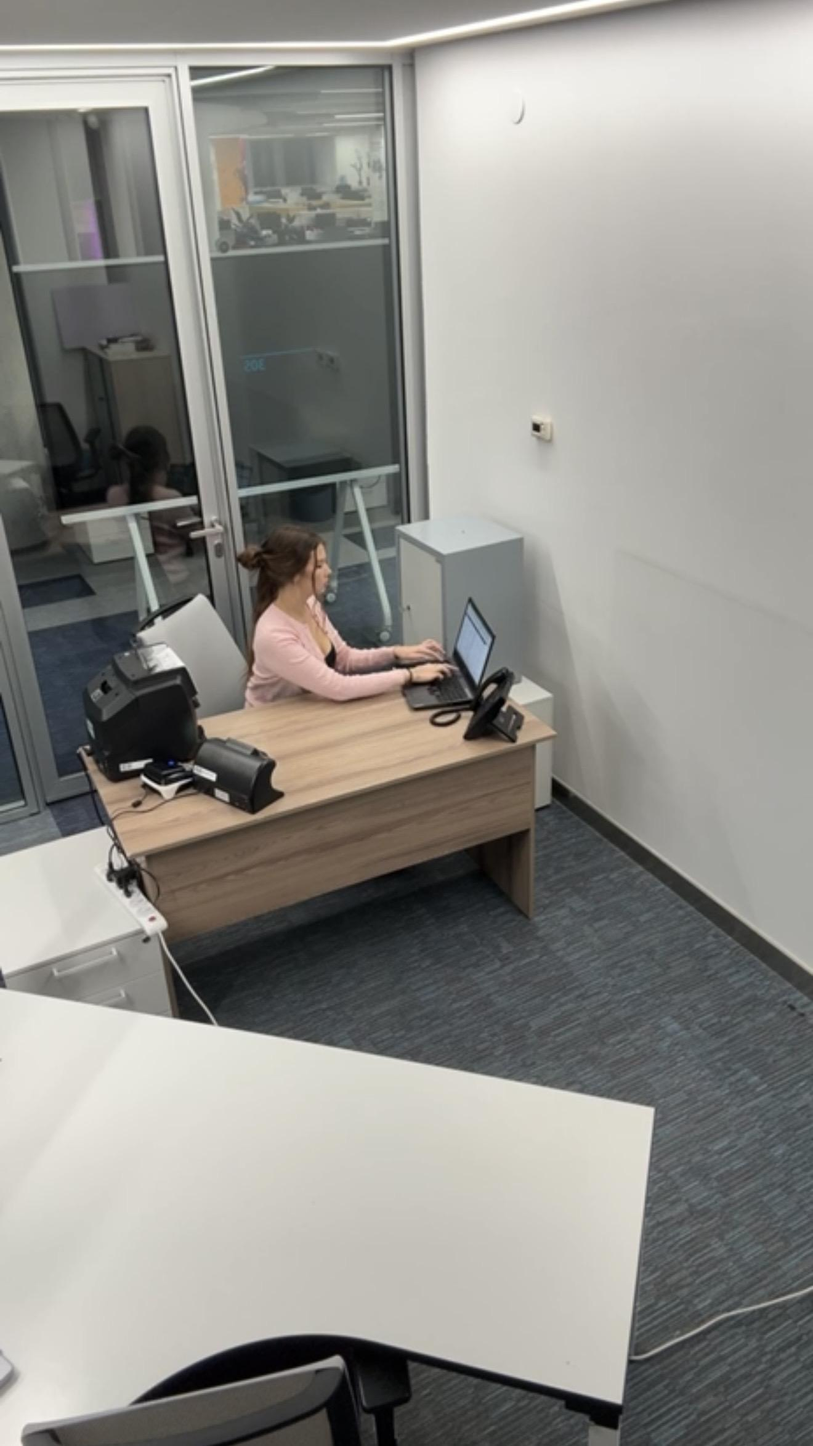counter: (76, 639, 205, 770)
key_in: (382, 583, 423, 622)
screen_on: (452, 598, 495, 686)
uv_lamp: (191, 739, 296, 811)
